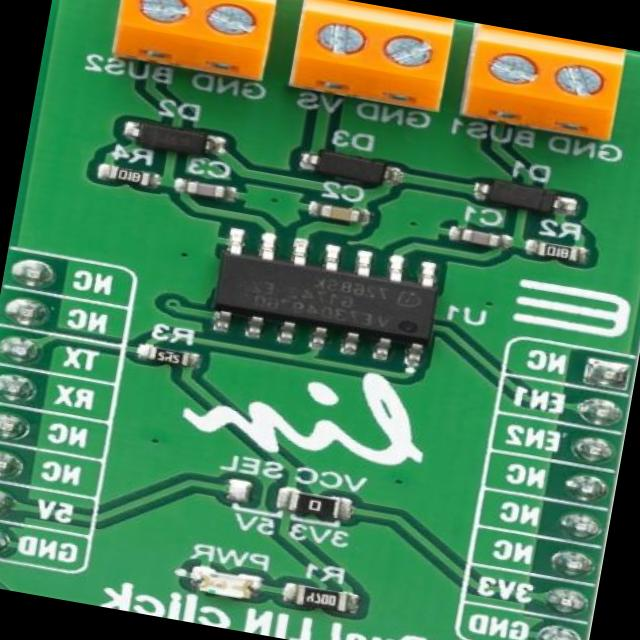IC: (209, 232, 443, 362)
LED: (193, 562, 256, 604)
capacitor: (178, 181, 223, 206), (312, 203, 364, 224), (453, 227, 497, 249)
connector: (458, 22, 628, 148), (281, 0, 453, 113), (107, 0, 285, 83)
diode: (302, 146, 392, 187), (134, 120, 213, 155), (479, 180, 556, 214)
resistor: (278, 489, 340, 522), (293, 584, 346, 612), (142, 344, 195, 372), (100, 164, 153, 189), (530, 241, 580, 267)
